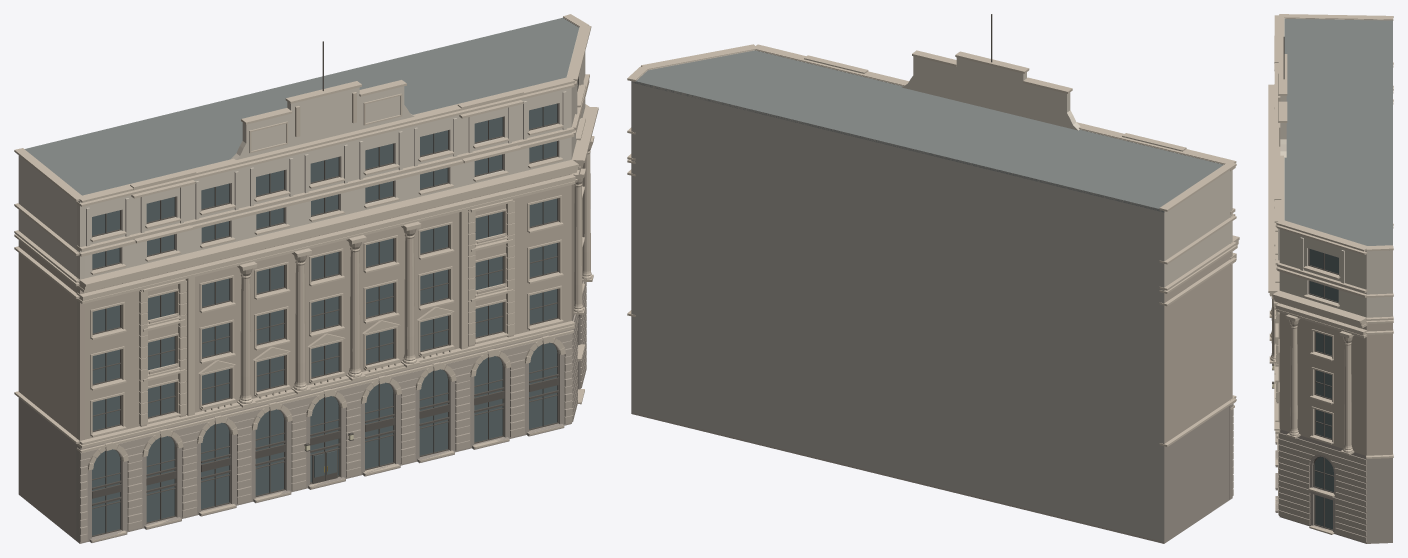
File: huangpu-jardine-matheson-building-lod.glb
The picture shows the model from 3 angles, left to right: view 1: azimuth 30°, elevation 25°; view 2: azimuth 150°, elevation 25°; view 3: azimuth 270°, elevation 25°; orthographic projection. The views are drawn at different scales.
Visible parts, largest first — view 1: 怡和洋行大楼临江立面与北京东路转角; view 2: 怡和洋行大楼临江立面与北京东路转角; view 3: 怡和洋行大楼临江立面与北京东路转角.
Boxes of the visible parts, <box> form: 怡和洋行大楼临江立面与北京东路转角: <box>14,14,598,543</box>; 怡和洋行大楼临江立面与北京东路转角: <box>627,14,1239,543</box>; 怡和洋行大楼临江立面与北京东路转角: <box>1268,14,1393,543</box>.
Size of the model in its own units: 54.71 by 40.44 by 12.18.
